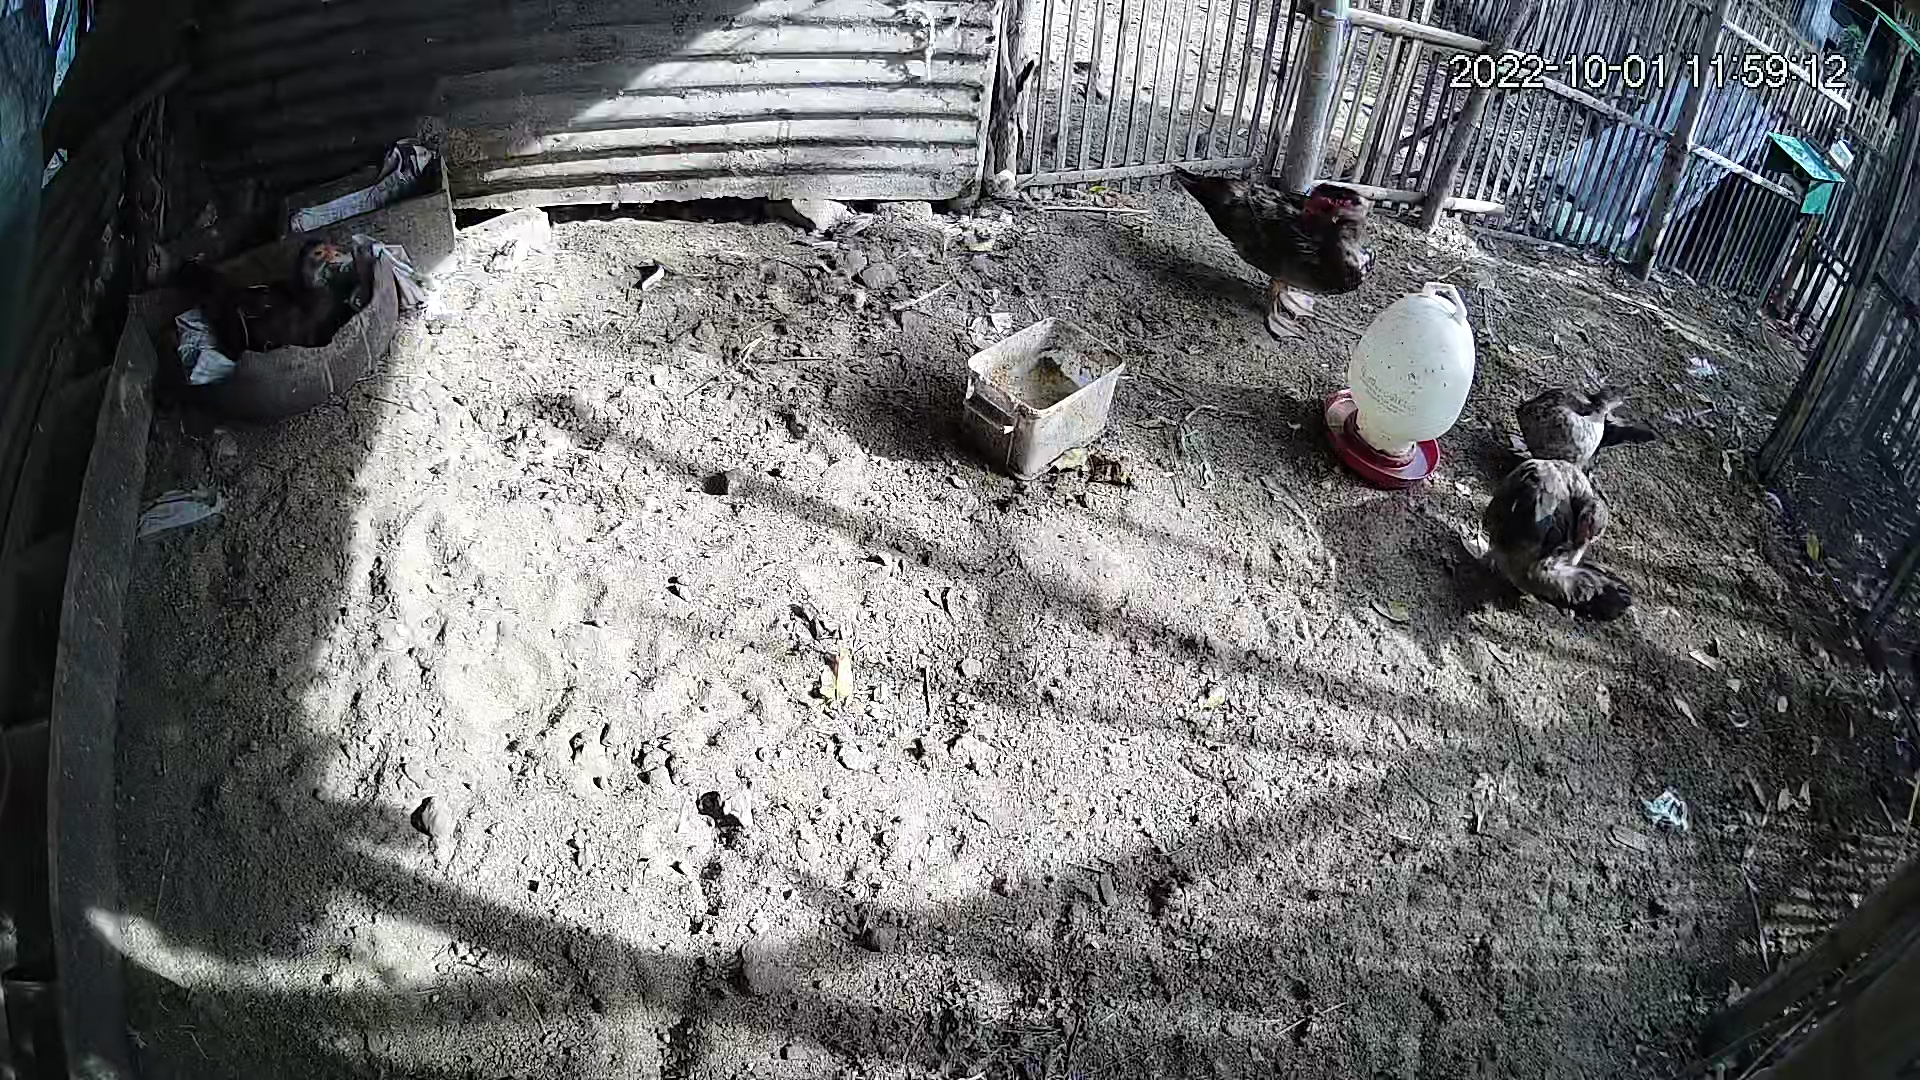Mengeram: (105, 196, 402, 425)
